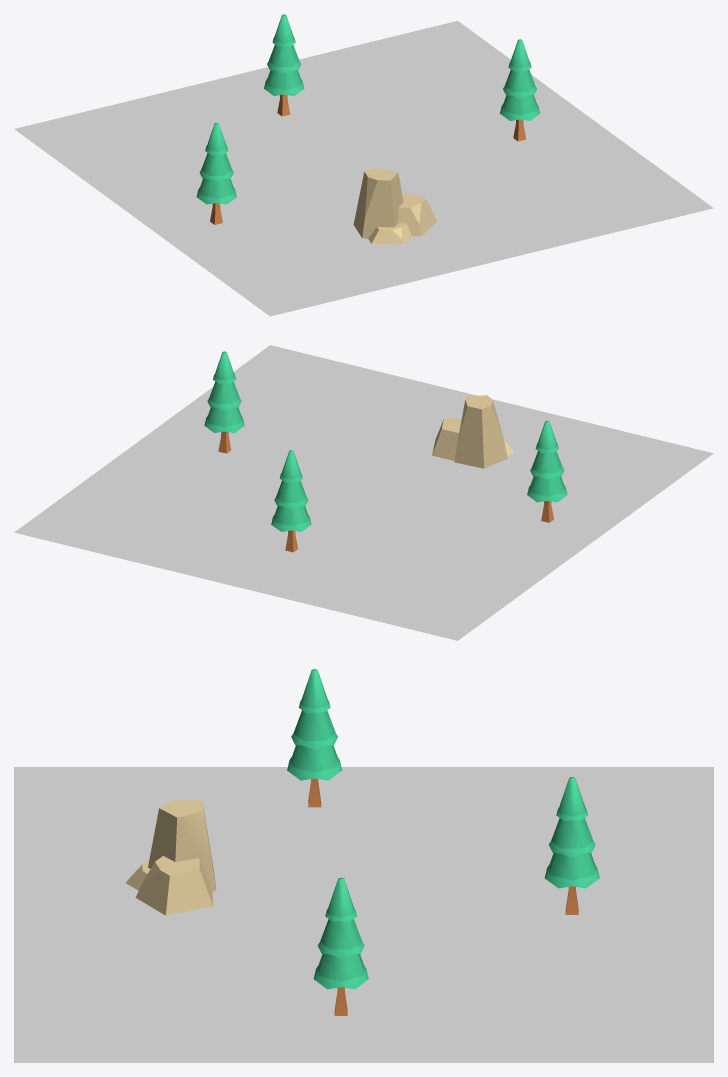
The model's file is mapTestBlender.glb.
3 renders of one model, top to bottom at view 1: azimuth 30°, elevation 25°; view 2: azimuth 150°, elevation 25°; view 3: azimuth 270°, elevation 25°, orthographic. The views are drawn at different scales.
Parts seen in each view (by area): view 1: Plane, rockA, tree.002, tree, tree.001; view 2: Plane, rockA, tree.001, tree.002, tree; view 3: Plane, rockA, tree.001, tree, tree.002.
Boxes of the visible parts, x1,y1,x2,y2 form: Plane: [14, 21, 713, 316]; rockA: [353, 168, 437, 244]; tree.002: [264, 14, 304, 116]; tree: [500, 39, 540, 141]; tree.001: [196, 123, 236, 224]; Plane: [14, 345, 713, 640]; rockA: [432, 395, 514, 468]; tree.001: [527, 420, 567, 522]; tree.002: [271, 450, 311, 552]; tree: [204, 351, 244, 453]; Plane: [14, 767, 713, 1062]; rockA: [126, 799, 216, 915]; tree.001: [287, 669, 342, 807]; tree: [313, 877, 368, 1015]; tree.002: [544, 777, 599, 914].
Size of the model in its own units: 20 by 4.23 by 20.
